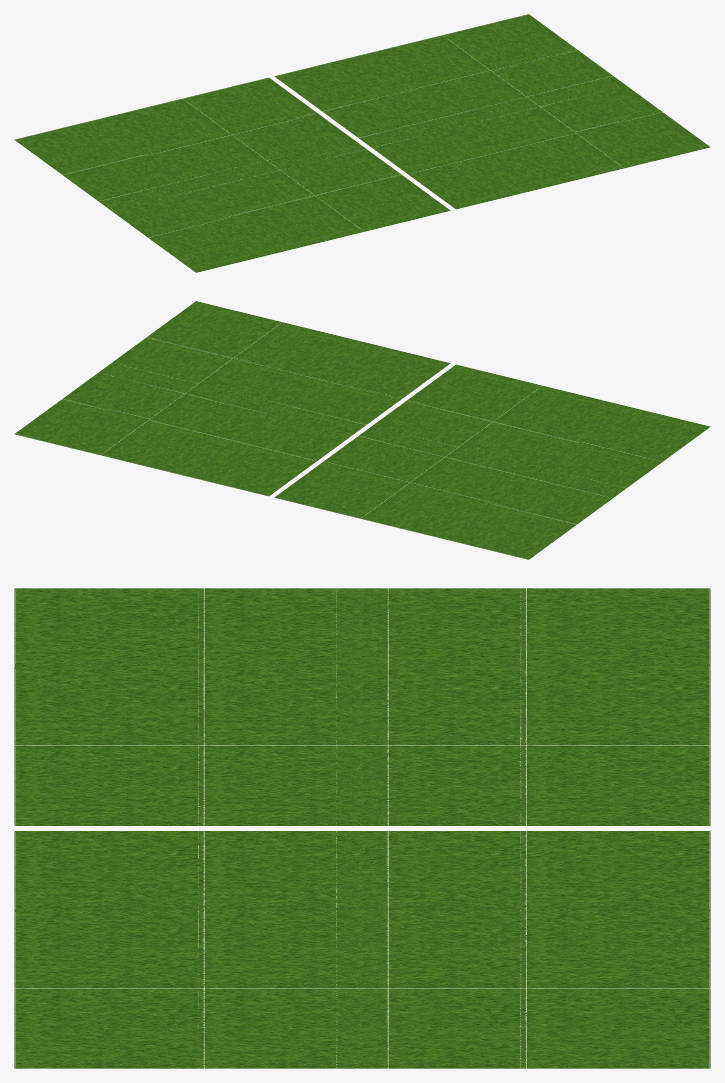
The picture shows the model from 3 angles, top to bottom: view 1: azimuth 30°, elevation 25°; view 2: azimuth 150°, elevation 25°; view 3: azimuth 270°, elevation 25°; orthographic projection. The views are drawn at different scales.
Visible parts, largest first — view 1: Plane, Plane.001, Plane.009, Plane.022, Plane.010, Plane.005, Plane.017, Plane.013, Plane.016, Plane.021, Plane.015, Plane.012 (+12 smaller); view 2: Plane.013, Plane, Plane.010, Plane.001, Plane.009, Plane.012, Plane.005, Plane.020, Plane.022, Plane.015, Plane.014, Plane.004 (+12 smaller); view 3: Plane, Plane.013, Plane.001, Plane.014, Plane.009, Plane.003, Plane.022, Plane.016, Plane.004, Plane.010, Plane.023, Plane.017 (+12 smaller).
Boxes of the visible parts, x1,y1,x2,y2 form: Plane: (228, 195, 363, 252); Plane.001: (315, 174, 450, 231); Plane.009: (96, 98, 231, 155); Plane.022: (443, 14, 577, 71); Plane.010: (183, 77, 316, 134); Plane.005: (98, 180, 232, 237); Plane.017: (358, 117, 493, 174); Plane.013: (575, 112, 710, 168); Plane.016: (527, 75, 662, 131); Plane.021: (356, 35, 489, 92); Plane.015: (440, 97, 575, 152); Plane.012: (494, 133, 623, 189); Plane.013: (146, 301, 281, 358); Plane: (493, 385, 628, 442); Plane.010: (274, 461, 409, 518); Plane.001: (407, 364, 541, 421); Plane.009: (361, 482, 495, 539); Plane.012: (234, 322, 368, 379); Plane.005: (527, 442, 662, 497); Plane.020: (231, 405, 366, 461); Plane.022: (14, 399, 149, 455); Plane.015: (185, 357, 318, 413); Plane.014: (317, 342, 450, 399); Plane.004: (358, 400, 491, 456); Plane: (14, 664, 204, 745); Plane.013: (14, 988, 204, 1068); Plane.001: (14, 745, 204, 825); Plane.014: (14, 831, 204, 911); Plane.009: (520, 664, 710, 745); Plane.003: (198, 664, 388, 745); Plane.022: (520, 988, 710, 1068); Plane.016: (198, 988, 388, 1068); Plane.004: (198, 745, 388, 825); Plane.010: (520, 745, 710, 825); Plane.023: (520, 831, 710, 911); Plane.017: (198, 831, 388, 911).
Bounding box in the file's own units: 112 × 0 × 68.5.
Materials: 1 (1 with a texture image).
